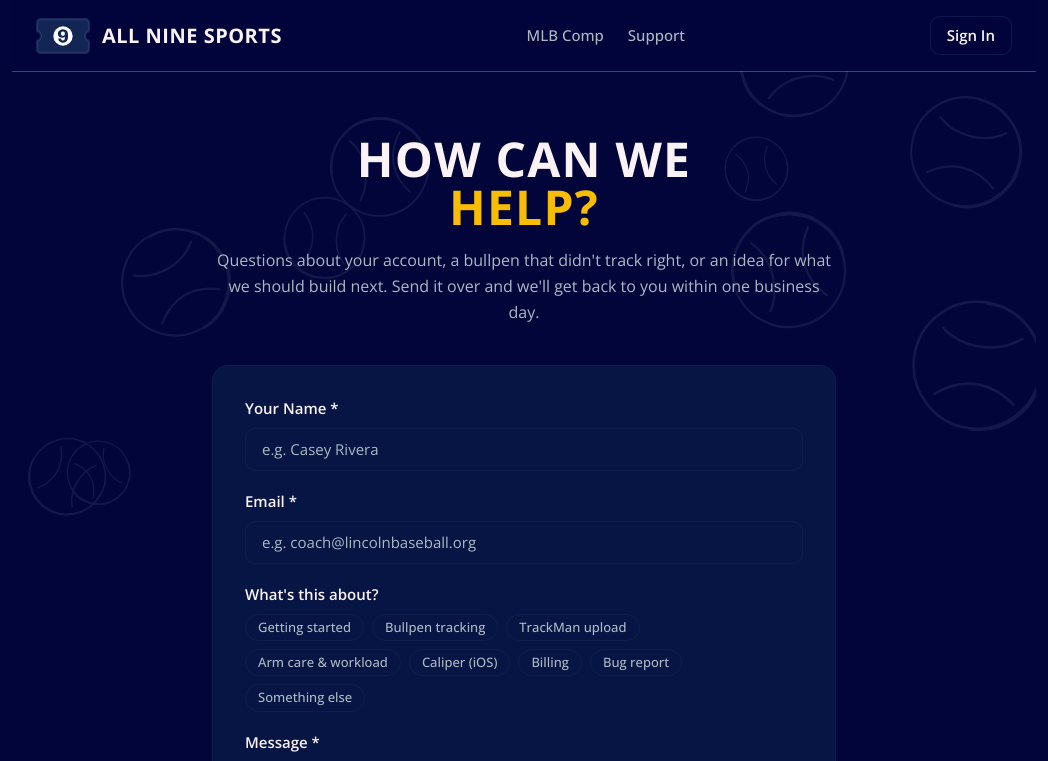
SupportPage › tells the user how else to reach us when the send fails
Type "Casey Rivera" into the field labelled "Your Name *" at [524, 450], box [245,428,803,471]
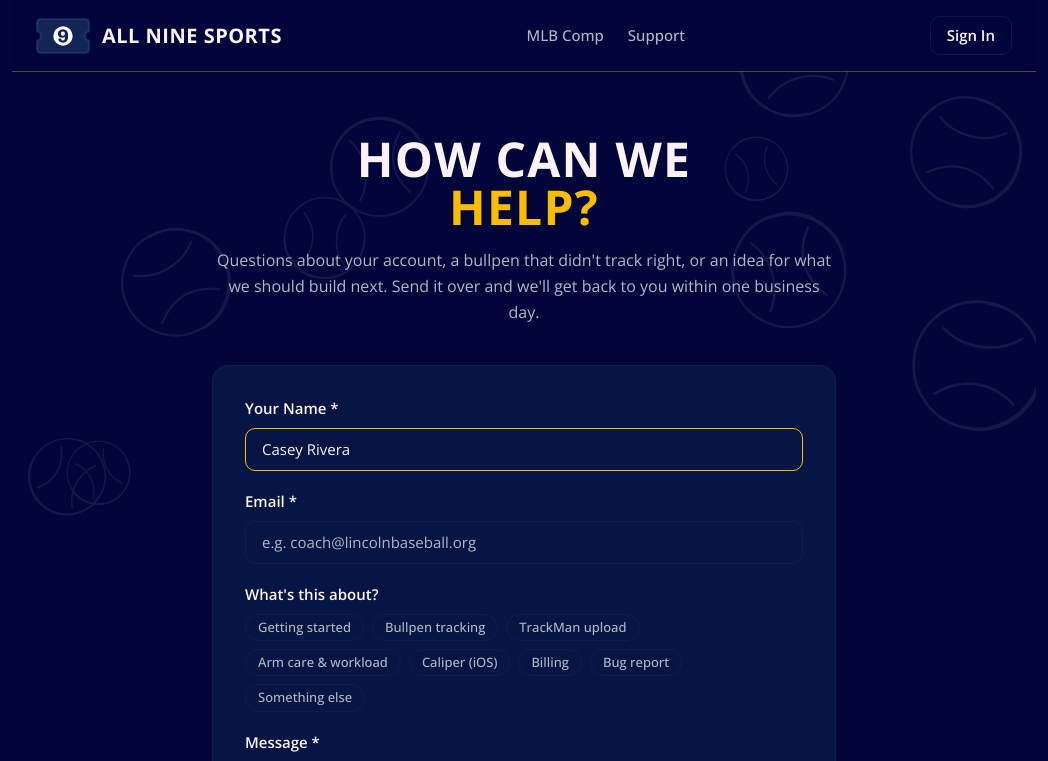
Type "coach@lincolnbaseball.org" into the field labelled "Email *" at [524, 542], box [245,521,803,564]
(page scrolled)
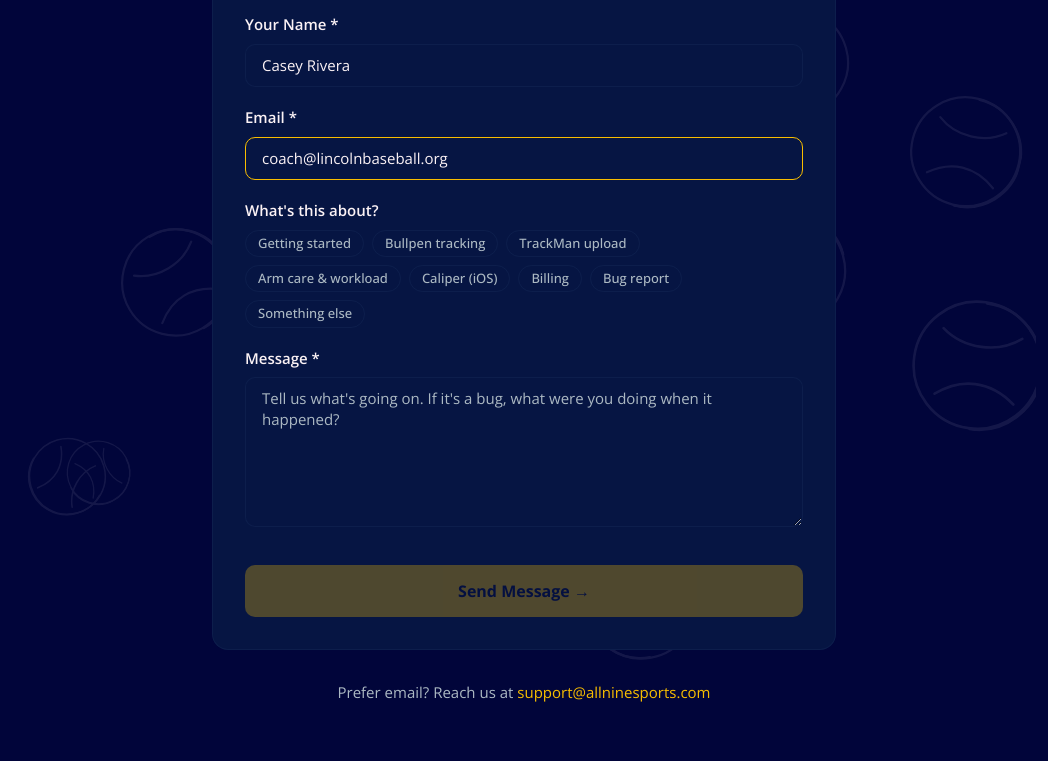
Type "My CSV upload failed." into the text box labelled "Message *" at [524, 452], box [245,377,803,527]
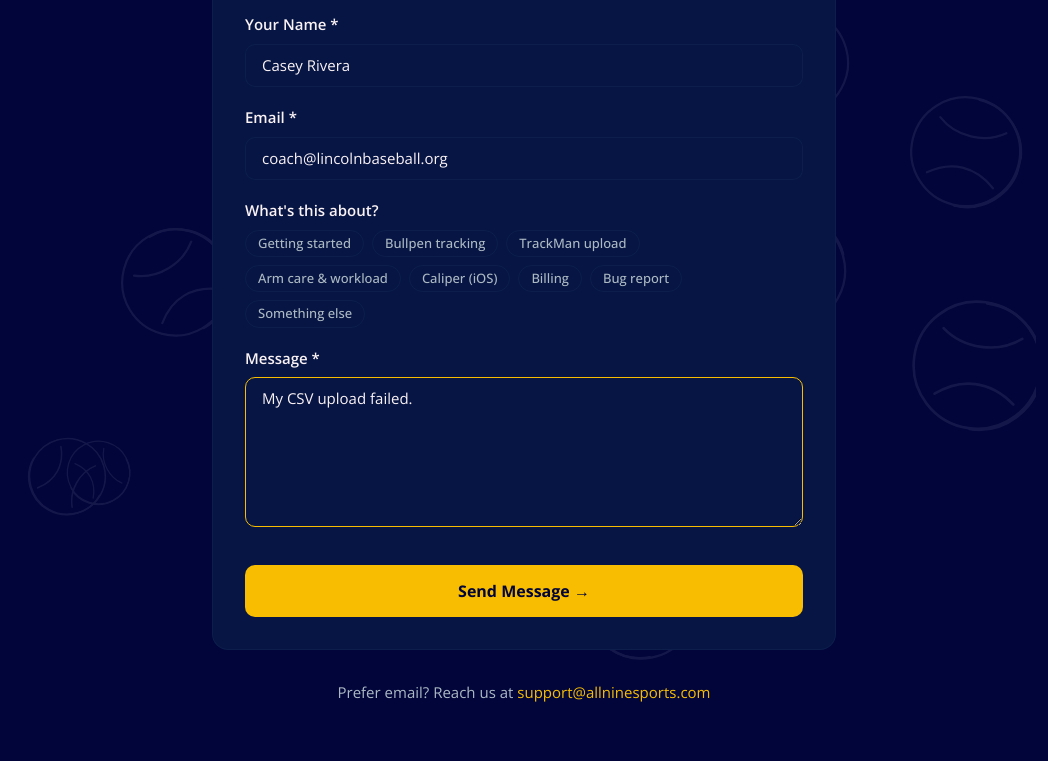
Click the button "Send Message →" at [524, 592], box [245,566,803,618]
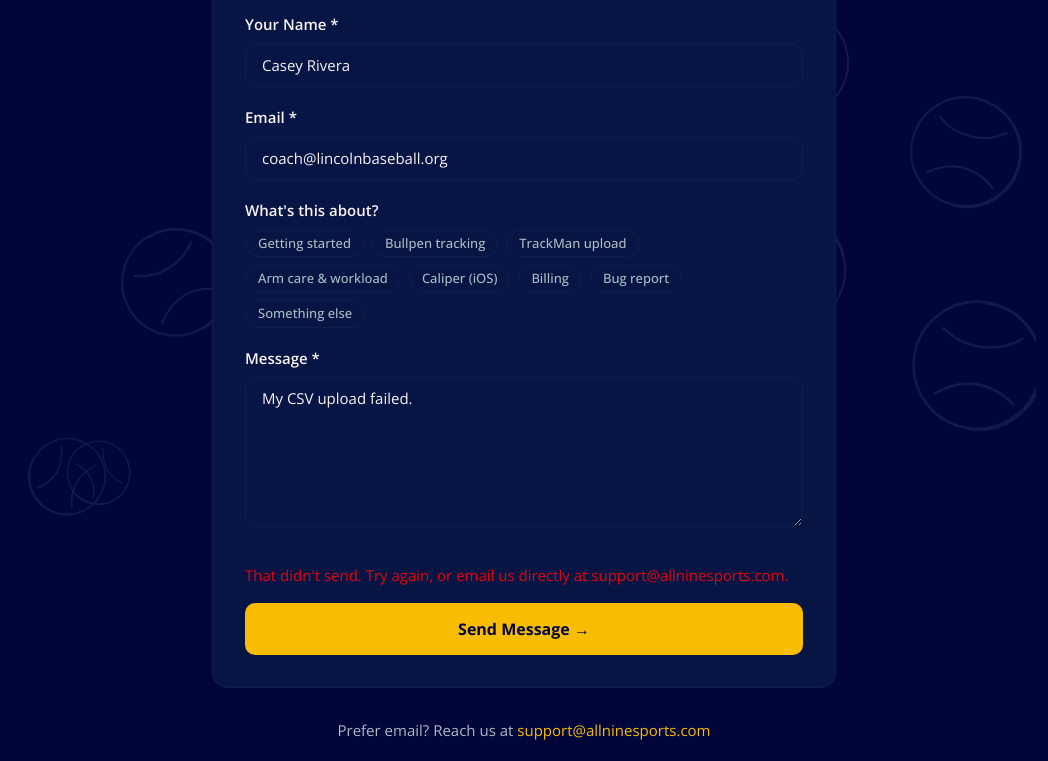
Now the text "That didn't send" is shown, box [245,566,788,586]
